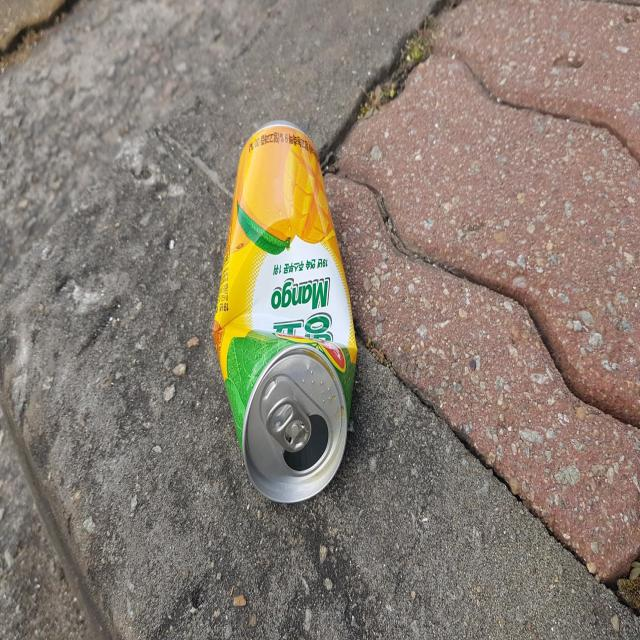can: (213, 119, 357, 503)
